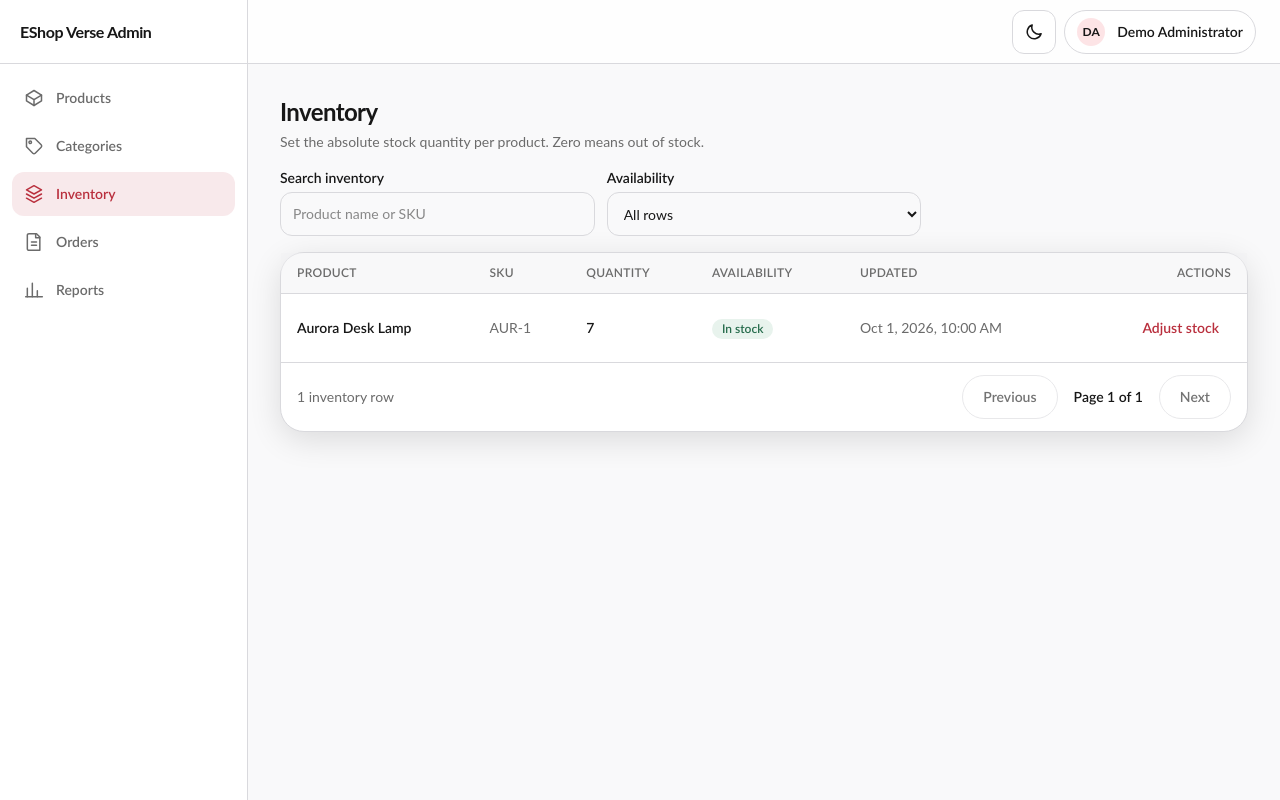
Test case: InventoryPage (A-05) › adjust_stock_surfaces_server_rejection_without_closing_the_dialog
Click the button with aria-label "Adjust stock for Aurora Desk Lamp": (1181, 328) [1130,306,1231,350]
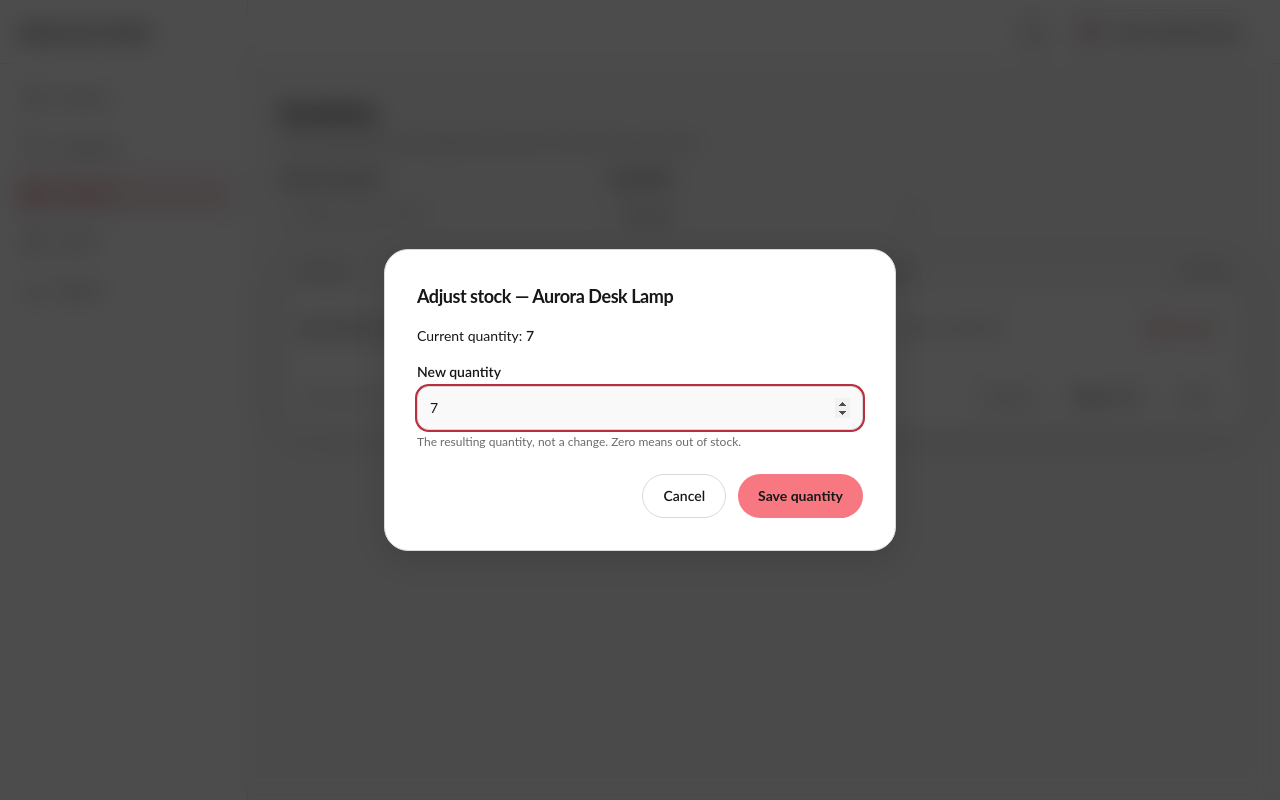
Replace the text in the number field labelled "New quantity" with "3": (640, 408) [417,386,863,430]
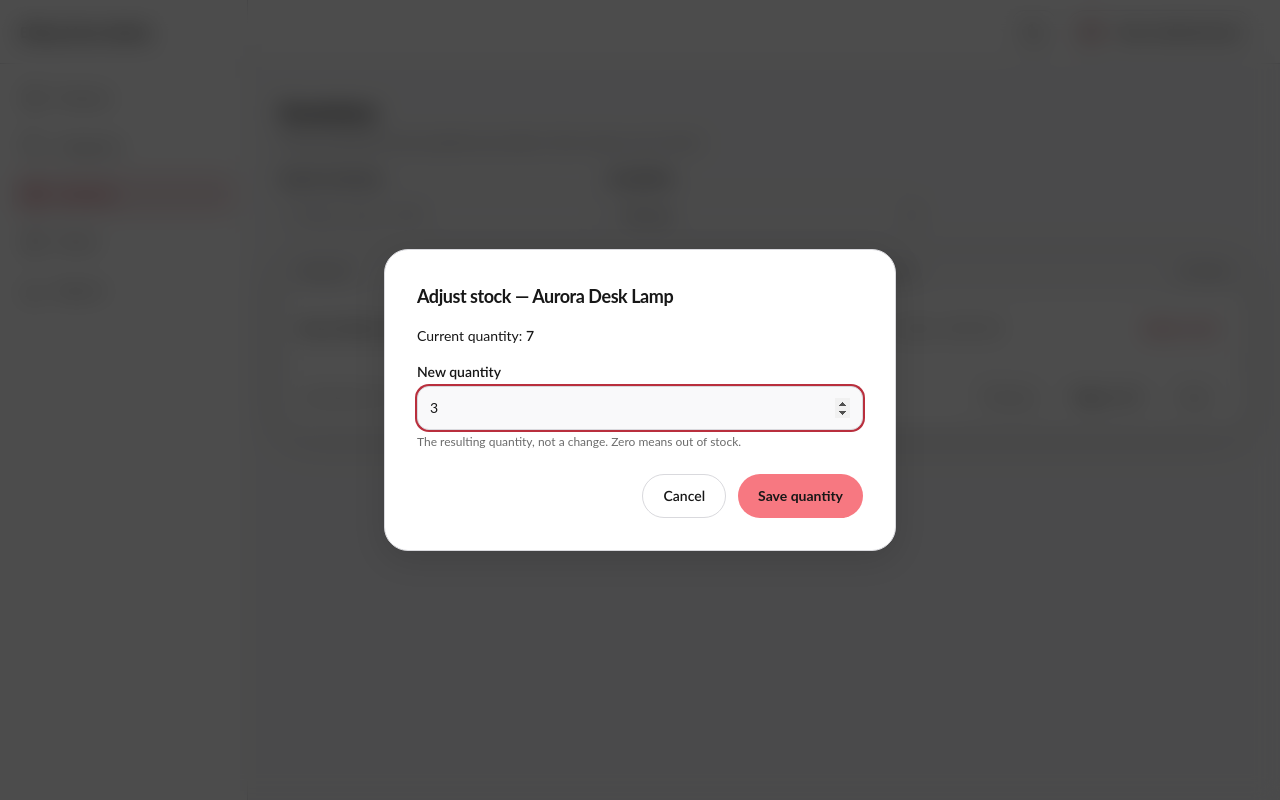
Click the button "Save quantity": (801, 496) [738,474,863,518]
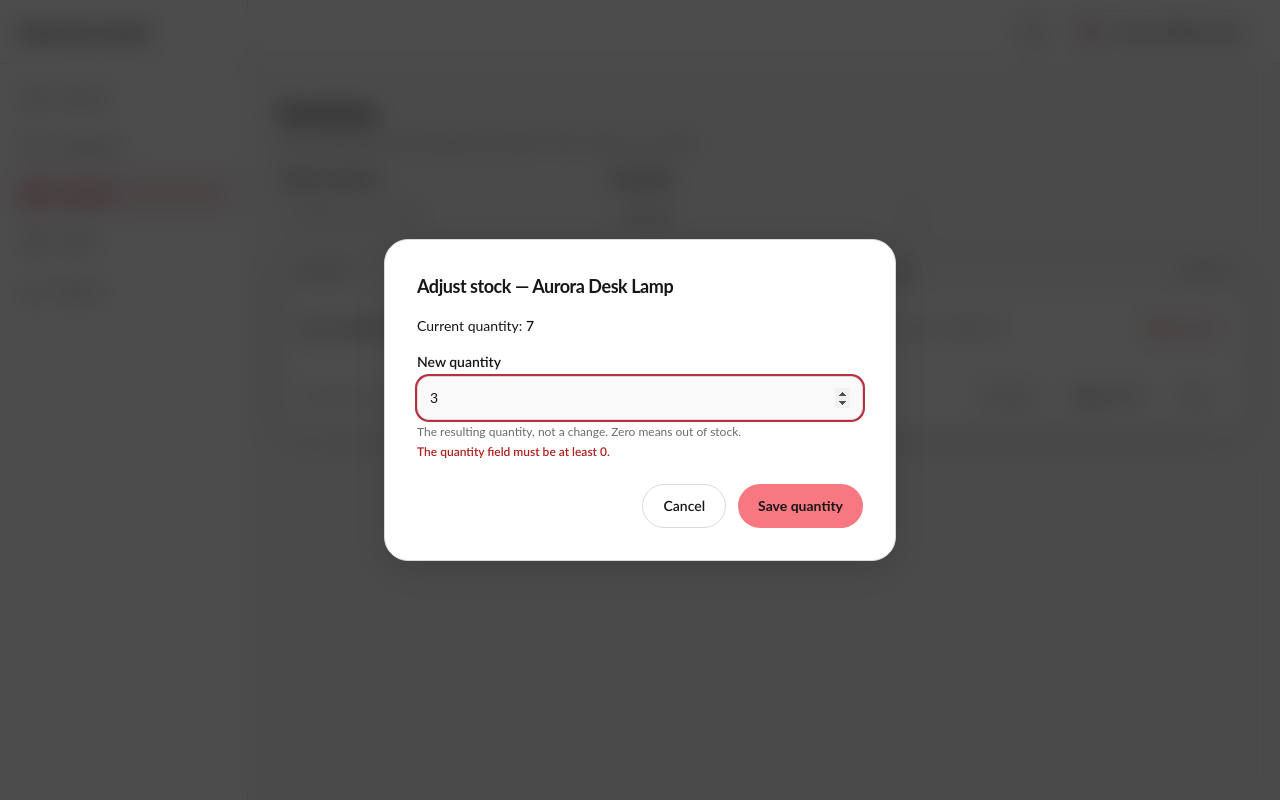
Check: the dialog "Adjust stock" is shown, box [384,239,896,561]
Check: the text "The quantity field must be at least 0." is shown, box [417,444,610,459]
